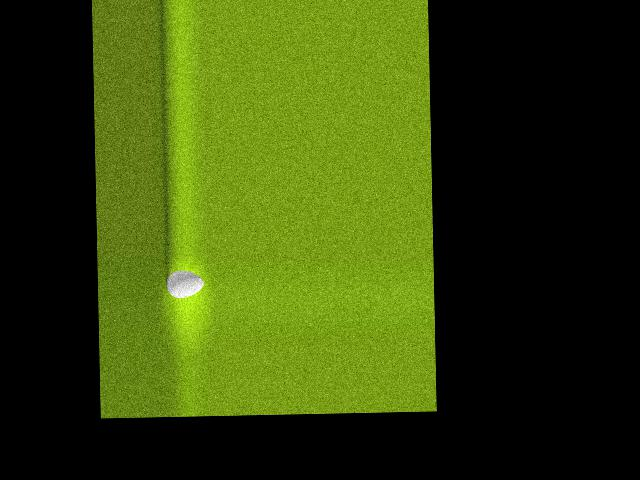egg: (166, 270, 204, 298)
